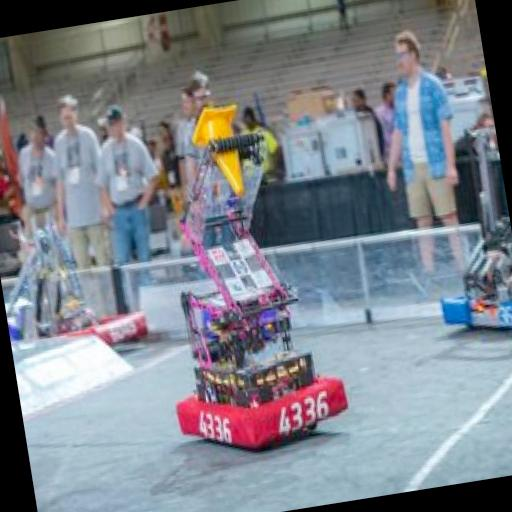robot: (127, 95, 357, 464), (0, 173, 156, 363), (403, 116, 512, 345)
